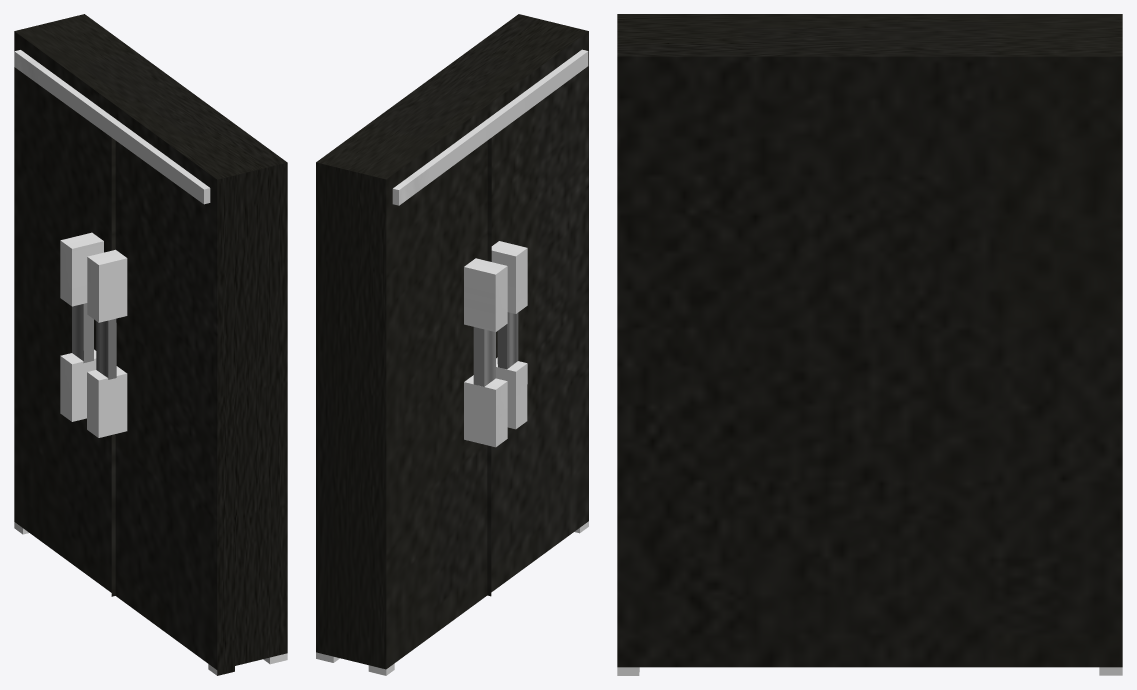
The model's file is Armario.fbx.
The picture shows the model from 3 angles, left to right: view 1: azimuth 30°, elevation 25°; view 2: azimuth 150°, elevation 25°; view 3: azimuth 270°, elevation 25°; orthographic projection. The views are drawn at different scales.
Visible parts, largest first — view 1: Cube; view 2: Cube; view 3: Cube.
Boxes of the visible parts, left/top/right/bottom form: Cube: left=14, top=14, right=287, bottom=675; Cube: left=316, top=14, right=588, bottom=675; Cube: left=617, top=14, right=1122, bottom=675.
Bounding box in the file's own units: 174 × 811 × 600.
